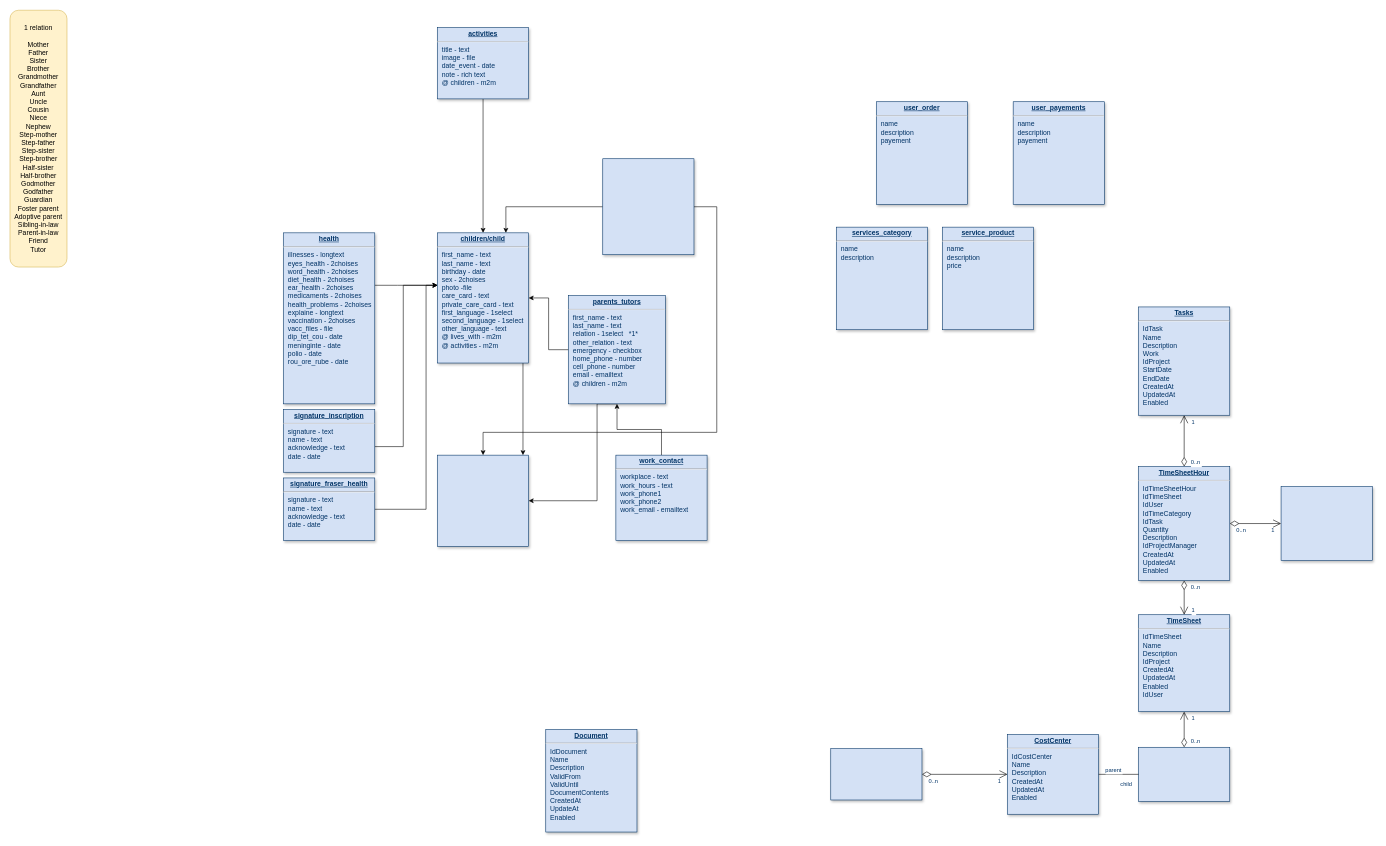
The diagram is 1386 pixels wide and 846 high, and some of its shapes have lost their labels. Each missing label, with the centre of its shape:
"addresses/address address - text apartment - text city - text postal_code - text" goes at [483,501].
"ProjectCostCenter IdProjectCostCenter IdProject IdCostCenter" goes at [876,775].
"specialists name specialist cell_phone work_phone other_phone" goes at [648,207].
"TimeCategory IdTimeCategory Name Description CreatedAt UpdatedAt Enabled" goes at [1327,524].
"TimeSheetCostCenter IdTimeSheetCostCenter IdTimeSheet IdCostCenter" goes at [1184,774].
